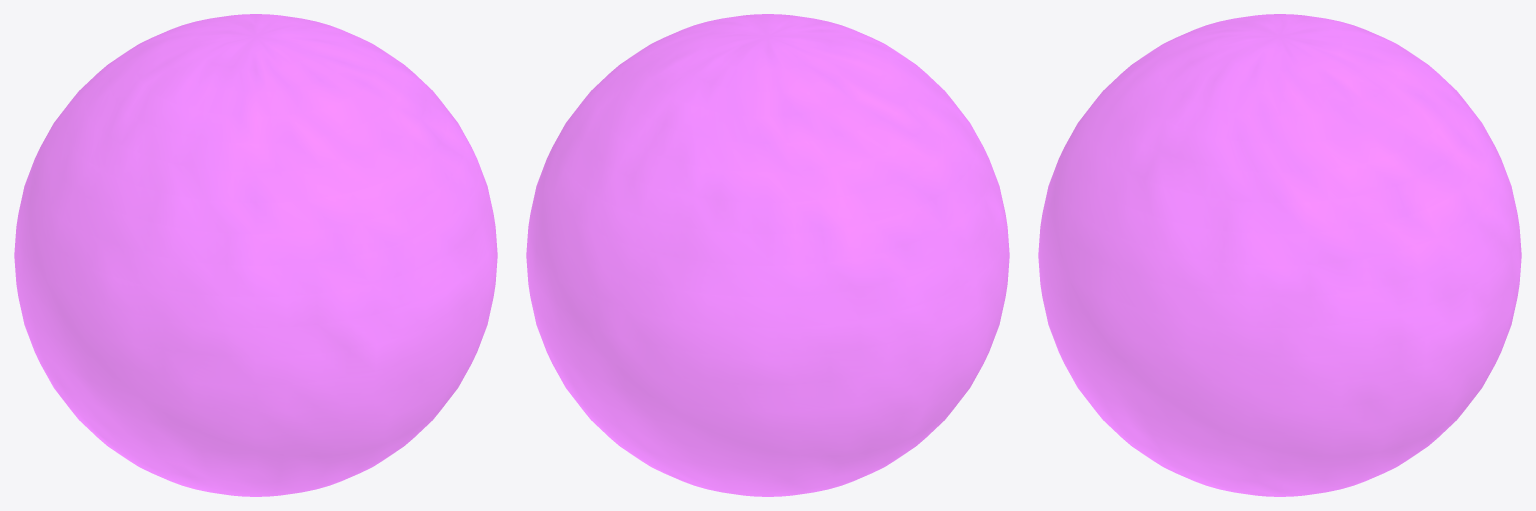
File: background_sample2.fbx
The picture shows the model from 3 angles, left to right: view 1: azimuth 30°, elevation 25°; view 2: azimuth 150°, elevation 25°; view 3: azimuth 270°, elevation 25°; orthographic projection.
Visible parts, largest first — view 1: NebulaDome; view 2: NebulaDome; view 3: NebulaDome.
Boxes of the visible parts, box(x1,y1,x2,y2) form: NebulaDome: box(14, 14, 497, 496); NebulaDome: box(526, 14, 1009, 496); NebulaDome: box(1038, 14, 1521, 496).
Size of the model in its own units: 320000 by 320000 by 320000.
